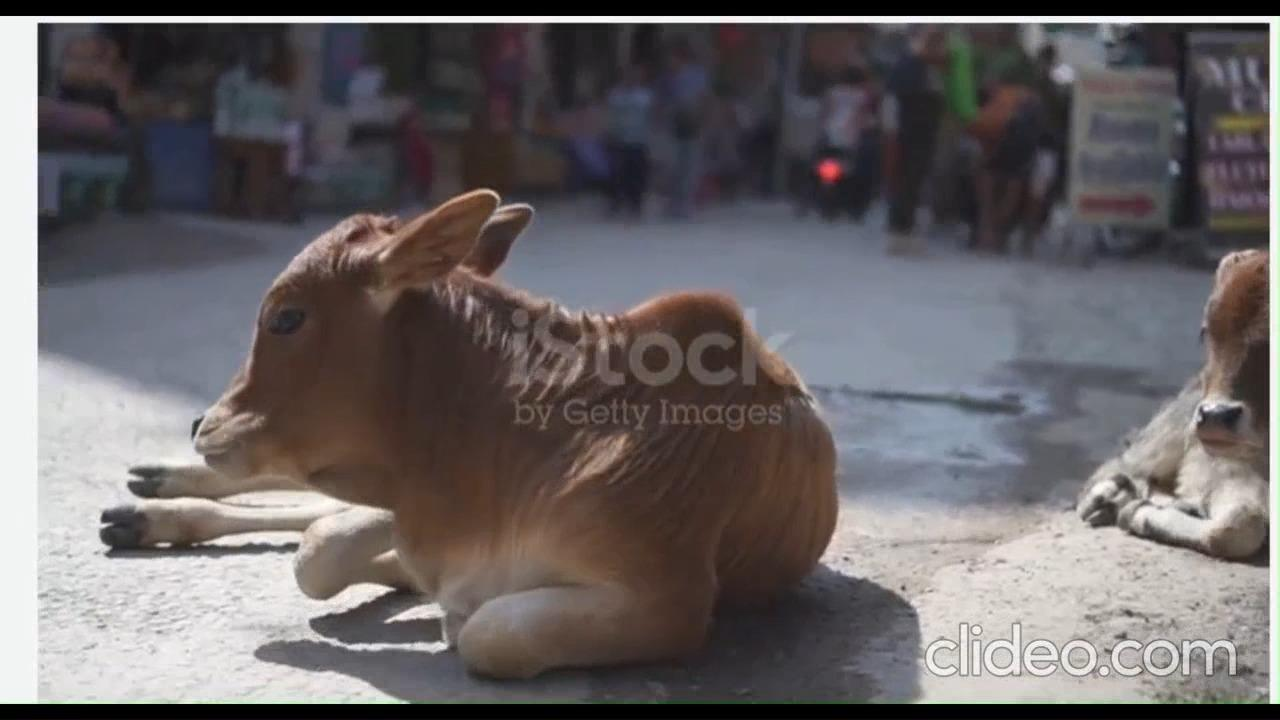Cow: (97, 185, 844, 645), (1080, 251, 1272, 556)
